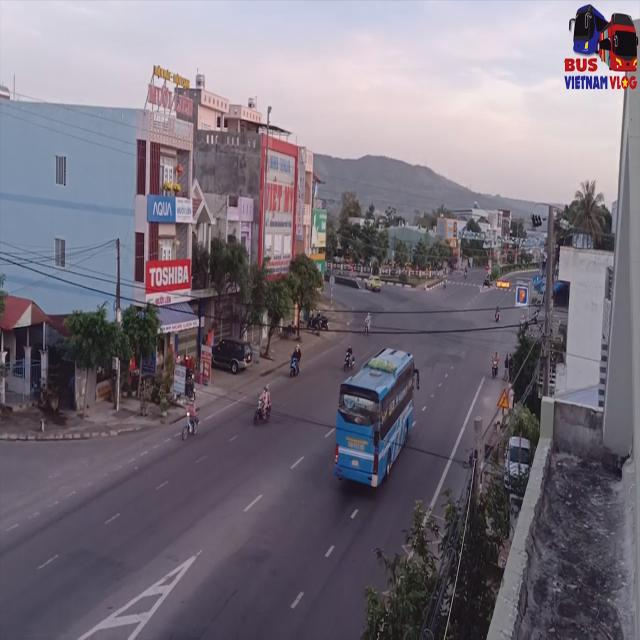bus: (332, 350, 418, 490)
motorbike: (253, 382, 271, 429), (182, 398, 198, 442), (344, 341, 357, 375), (289, 343, 301, 379), (490, 346, 501, 379)
